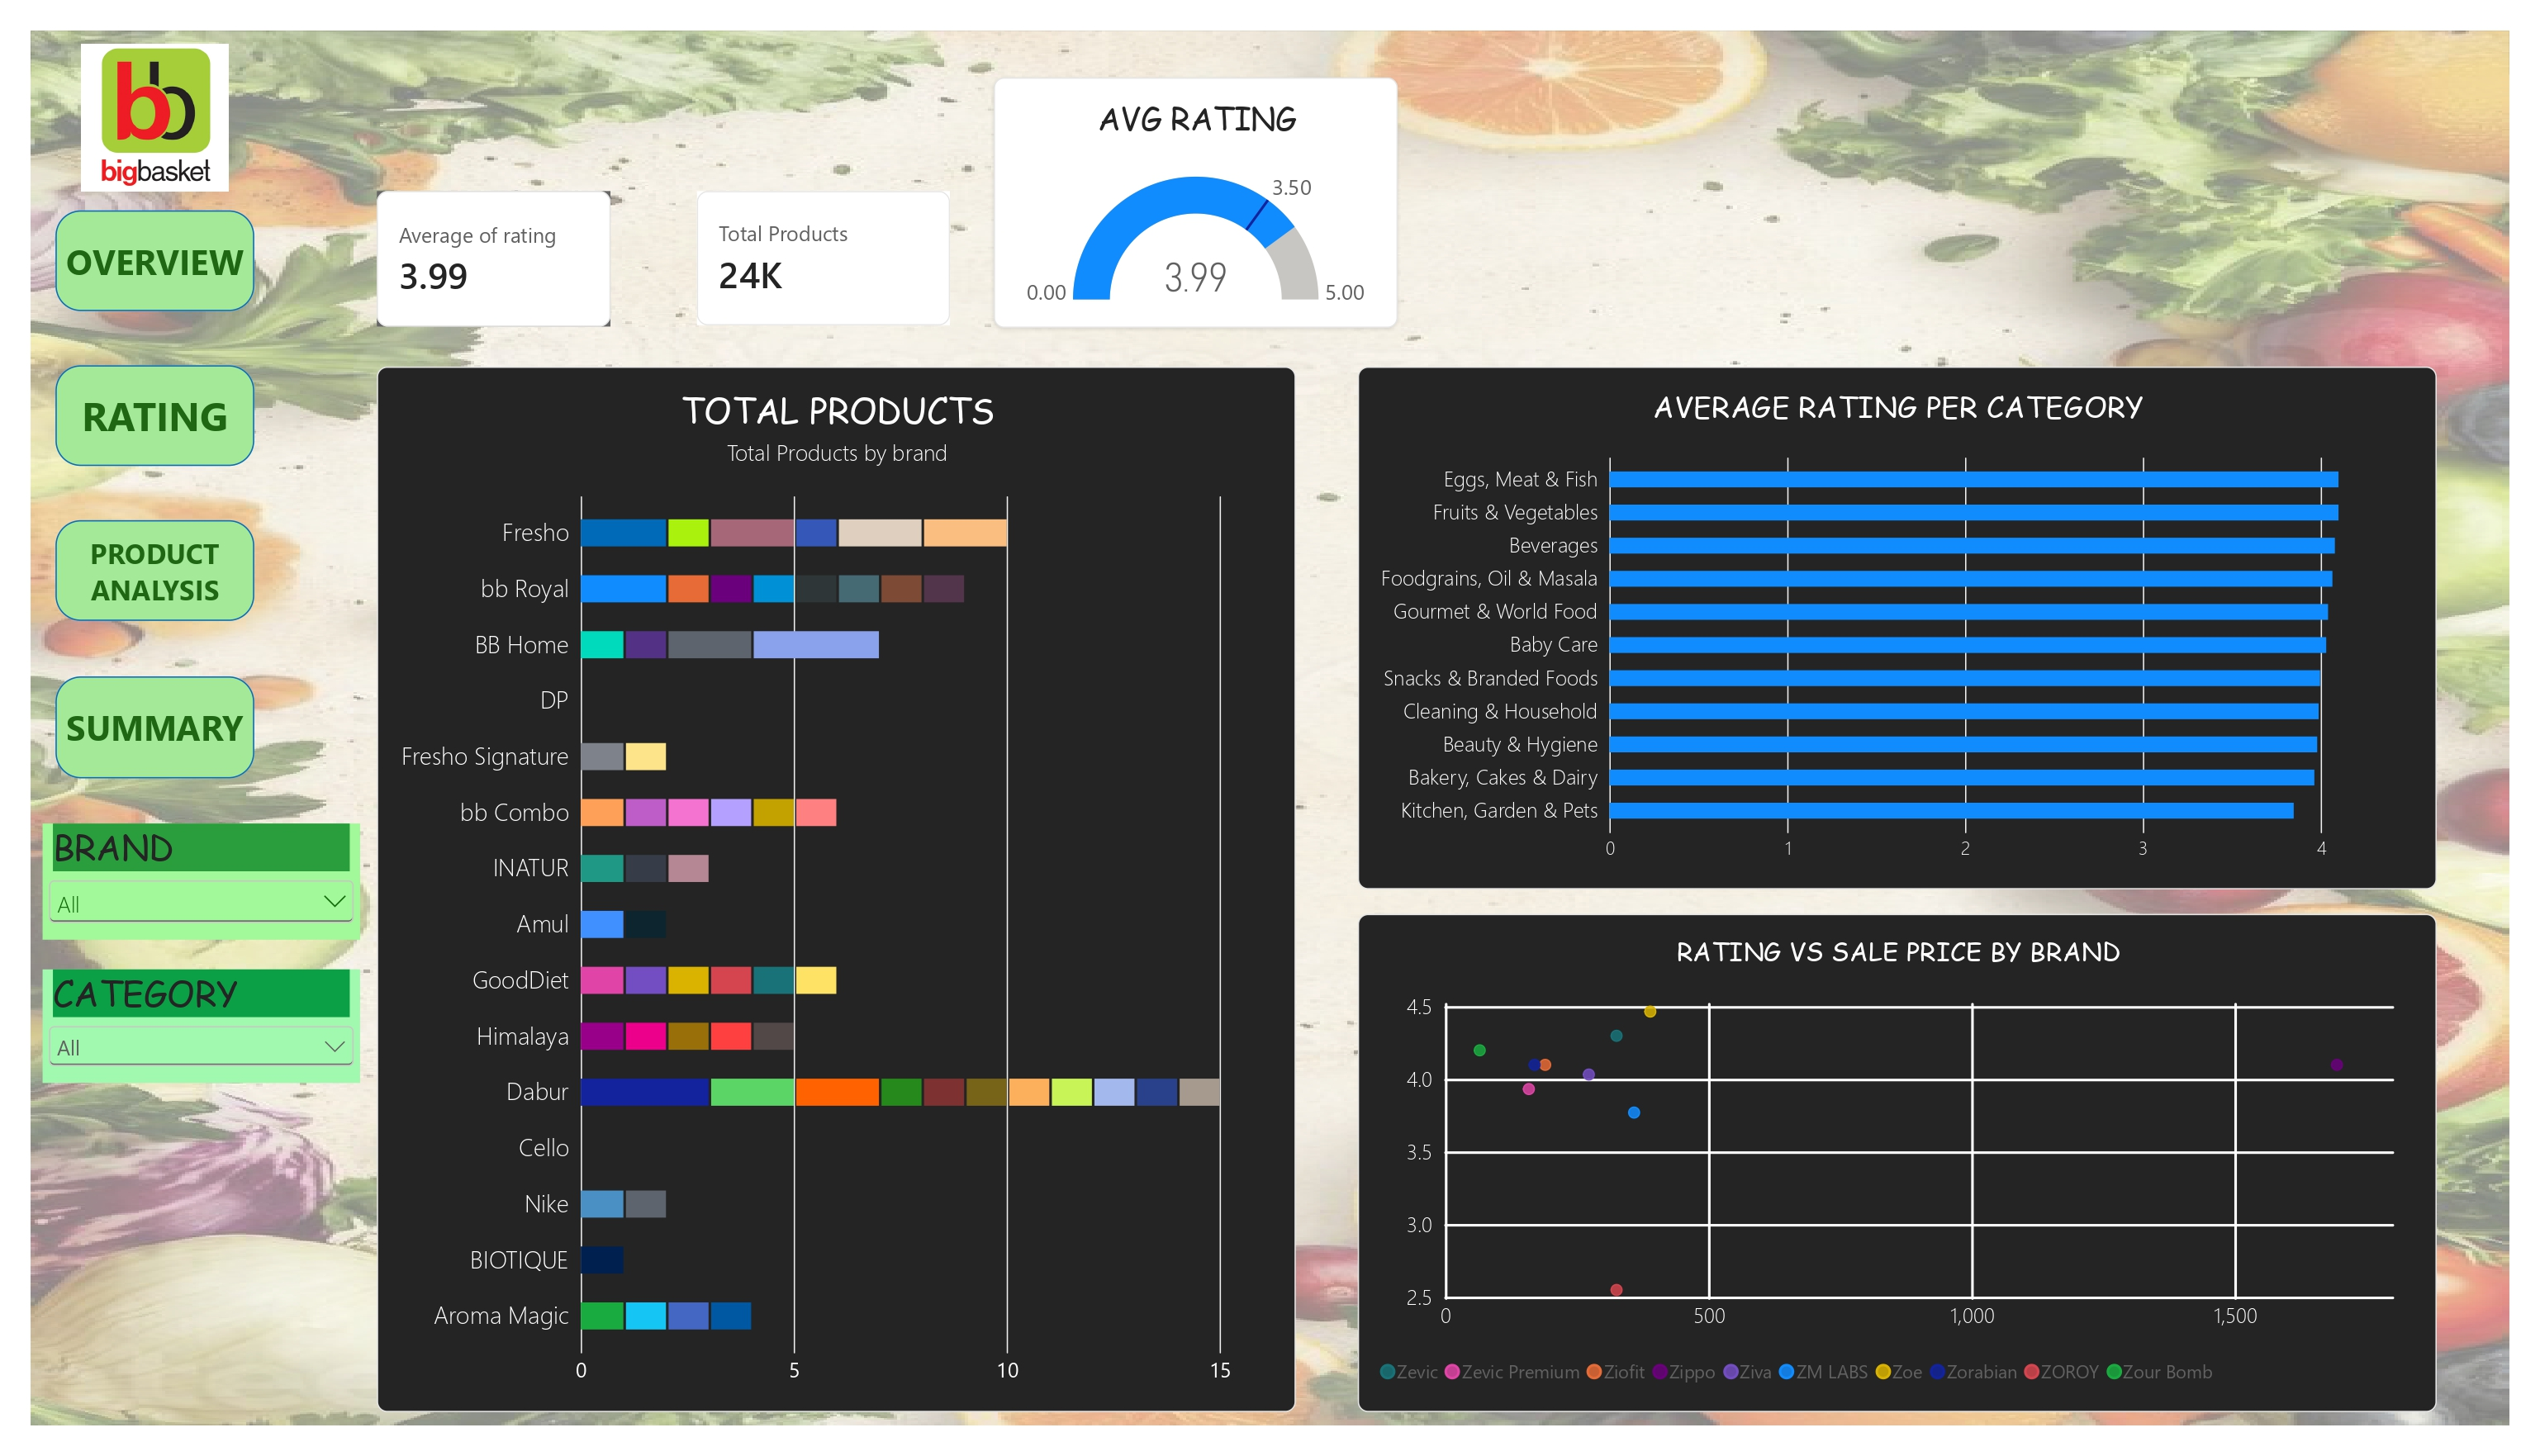

This screenshot's page, from the dashboard's own definition file:
{"tool":"powerbi","page":{"name":"RATING","canvas":[1920,1080],"ordinal":1},"visuals":[{"type":"image","box":[0,0,1919.8,1080],"z":0},{"type":"shape","box":[18.6,138.6,154.3,78.6],"z":1000},{"type":"shape","box":[18.6,258.6,154.3,78.6],"z":2000},{"type":"shape","box":[18.6,378.6,154.3,78.6],"z":3000},{"type":"shape","box":[18.6,500,154.3,78.6],"z":4000},{"type":"image","box":[8.6,10,174.3,114.3],"z":5000},{"type":"cardVisual","fields":{"Data":["Avg(Sheet1.rating)"]},"box":[268.2,124.4,180.7,104.2],"z":6000},{"type":"barChart","title":"TOTAL PRODUCTS ","fields":{"Category":["Sheet1.brand"],"Series":["Sheet1.product"],"Y":["Sheet1.Total Products"]},"box":[268.2,259.6,712.2,810.9],"z":7000},{"type":"clusteredBarChart","title":"AVERAGE RATING PER CATEGORY","fields":{"Category":["Sheet1.category"],"Y":["Sheet1.Average of rating average per category"]},"box":[1027.6,259.6,836.6,405.5],"z":8000},{"type":"scatterChart","title":"RATING VS SALE PRICE BY BRAND","fields":{"Series":["Sheet1.brand"],"X":["Avg(Sheet1.sale_price)"],"Y":["Avg(Sheet1.rating)"]},"box":[1028,684,836,386],"z":9000},{"type":"cardVisual","fields":{"Data":["Sheet1.Total Products"]},"box":[516,124,196,104],"z":10000},{"type":"slicer","fields":{"Values":["Sheet1.brand"]},"box":[8.6,613.5,246.7,90.1],"z":11000},{"type":"slicer","fields":{"Values":["Sheet1.category"]},"box":[8.6,727.2,246.7,88],"z":12000},{"type":"gauge","title":"AVG RATING","fields":{"Y":["Avg(Sheet1.rating)"]},"box":[746.2,36.1,312.5,193.5],"z":13000}]}

Visuals, with their boxes on the page's 1920x1080 design canvas (x1, y1, x2, y2). These are canvas units, not pixel positions in the 2540x1456 screenshot, which may show the page scaled, cropped or inside an application window:
image: 0,0,1920,1080
shape: 19,139,173,217
shape: 19,259,173,337
shape: 19,379,173,457
shape: 19,500,173,579
image: 9,10,183,124
cardVisual - Avg(Sheet1.rating): 268,124,449,229
"TOTAL PRODUCTS " barChart: 268,260,980,1070
"AVERAGE RATING PER CATEGORY" clusteredBarChart: 1028,260,1864,665
"RATING VS SALE PRICE BY BRAND" scatterChart: 1028,684,1864,1070
cardVisual - Sheet1.Total Products: 516,124,712,228
slicer - Sheet1.brand: 9,614,255,704
slicer - Sheet1.category: 9,727,255,815
"AVG RATING" gauge: 746,36,1059,230
